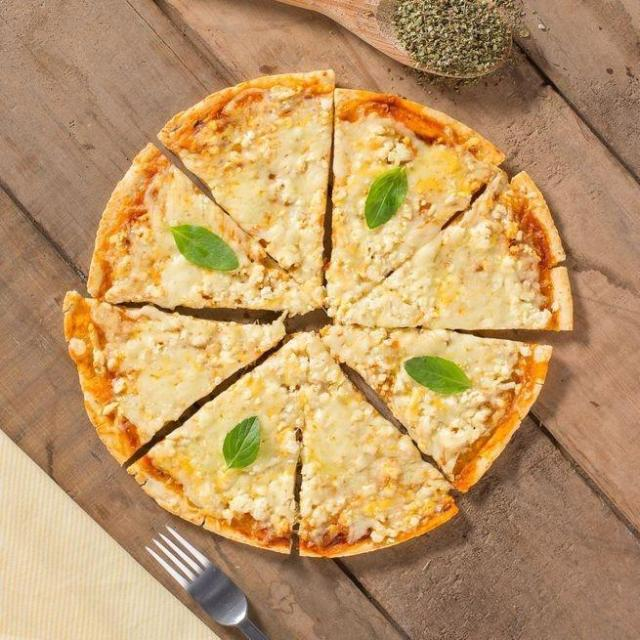basil: (162, 223, 240, 274), (362, 160, 414, 230), (403, 352, 474, 398), (218, 414, 264, 472)
pizza: (61, 71, 574, 561)
